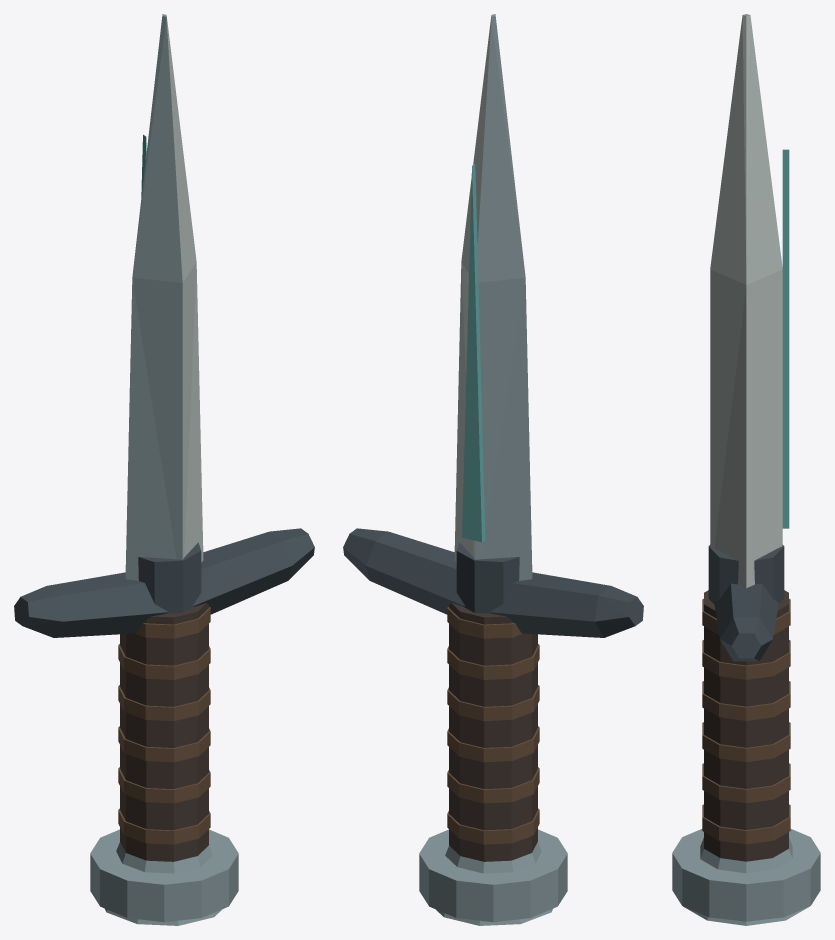
The model's file is AEW_Dagger_OathShiver.fbx.
3 views of the same model, side by side, from view 1: azimuth 30°, elevation 25°; view 2: azimuth 150°, elevation 25°; view 3: azimuth 270°, elevation 25° (orthographic).
Visible parts, largest first — view 1: AEW_Dagger_OathShiver; view 2: AEW_Dagger_OathShiver; view 3: AEW_Dagger_OathShiver.
Part boxes in pixels (x1=…): AEW_Dagger_OathShiver: x1=14, y1=14, x2=314, y2=925; AEW_Dagger_OathShiver: x1=343, y1=14, x2=643, y2=925; AEW_Dagger_OathShiver: x1=672, y1=14, x2=820, y2=925.
Bounding box in the file's own units: 0.2038 × 0.59 × 0.09.
